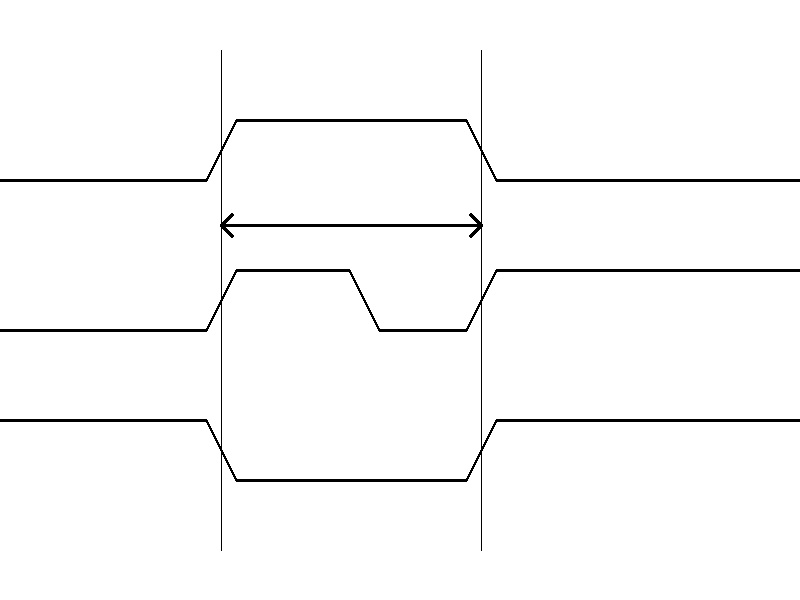double_arrow: (221, 210, 481, 240)
